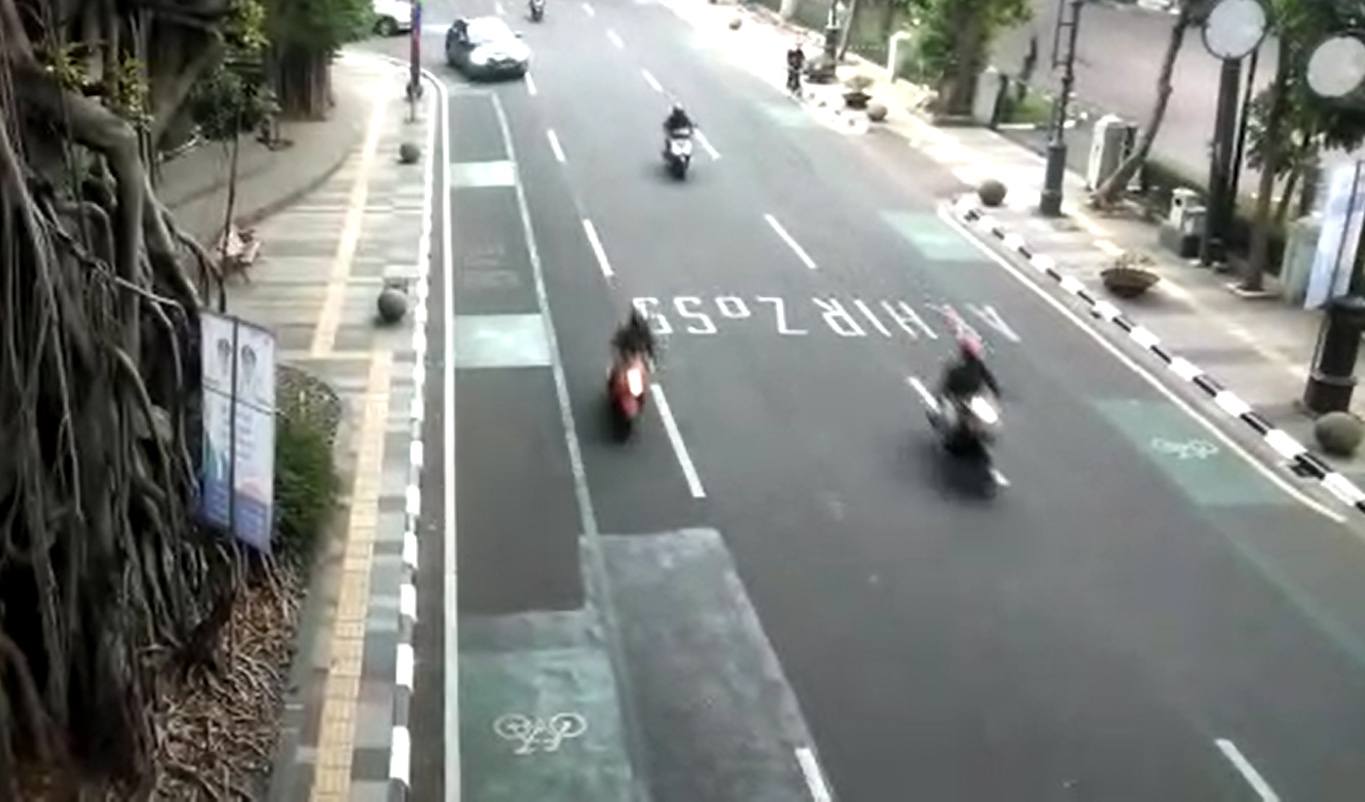motor: (909, 322, 1025, 515), (590, 296, 669, 456), (649, 95, 709, 190)
